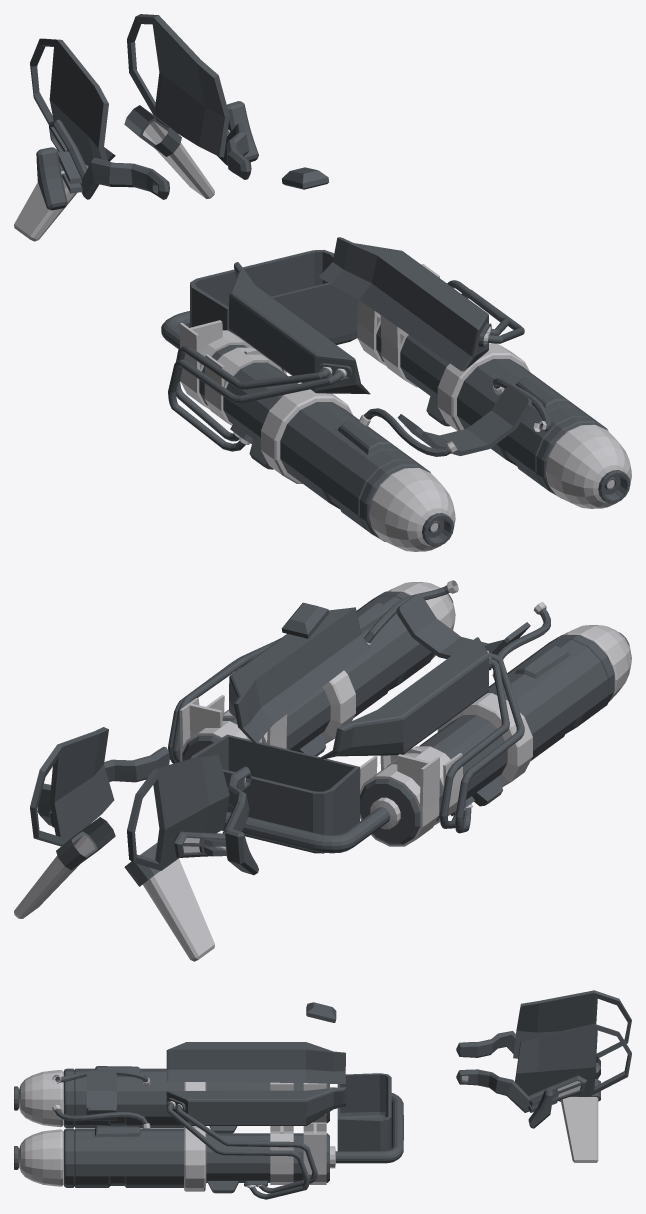
The model's file is Personal_Vehicle_03_Main_Frame.fbx.
3 views of the same model, one above another, from view 1: azimuth 30°, elevation 25°; view 2: azimuth 150°, elevation 25°; view 3: azimuth 270°, elevation 25° (orthographic). The views are drawn at different scales.
Visible parts, largest first — view 1: Personal_Vehicle_03_Main_Frame; view 2: Personal_Vehicle_03_Main_Frame; view 3: Personal_Vehicle_03_Main_Frame.
Boxes of the visible parts, bbox=[...] form: Personal_Vehicle_03_Main_Frame: bbox=[14, 14, 631, 551]; Personal_Vehicle_03_Main_Frame: bbox=[14, 580, 631, 961]; Personal_Vehicle_03_Main_Frame: bbox=[14, 990, 631, 1199].
Bounding box in the file's own units: 177 × 128 × 465.
1 material, 1 textured.
